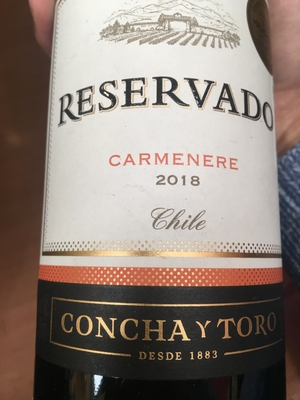reservado carmenere: (35, 3, 276, 399)
